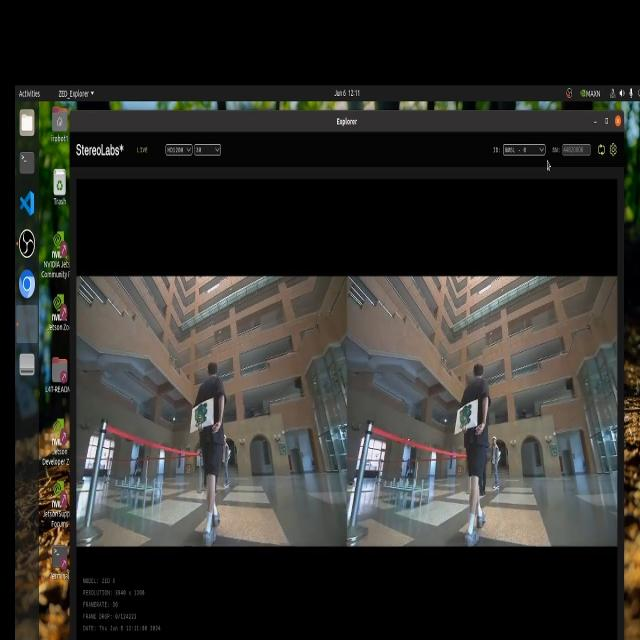green: (186, 406, 210, 431), (456, 397, 473, 423)
